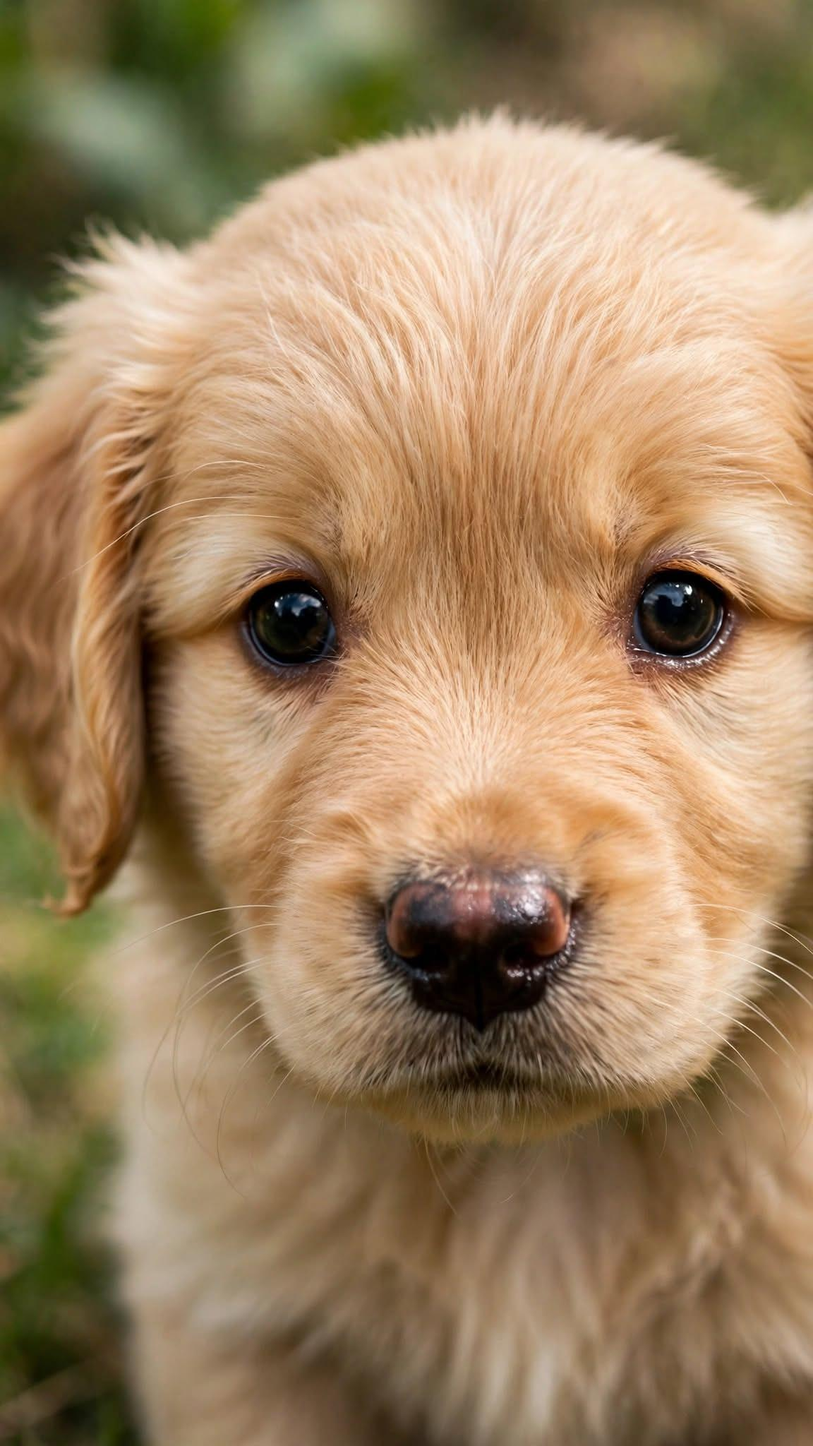puppy-dog: (0, 111, 813, 1446)
